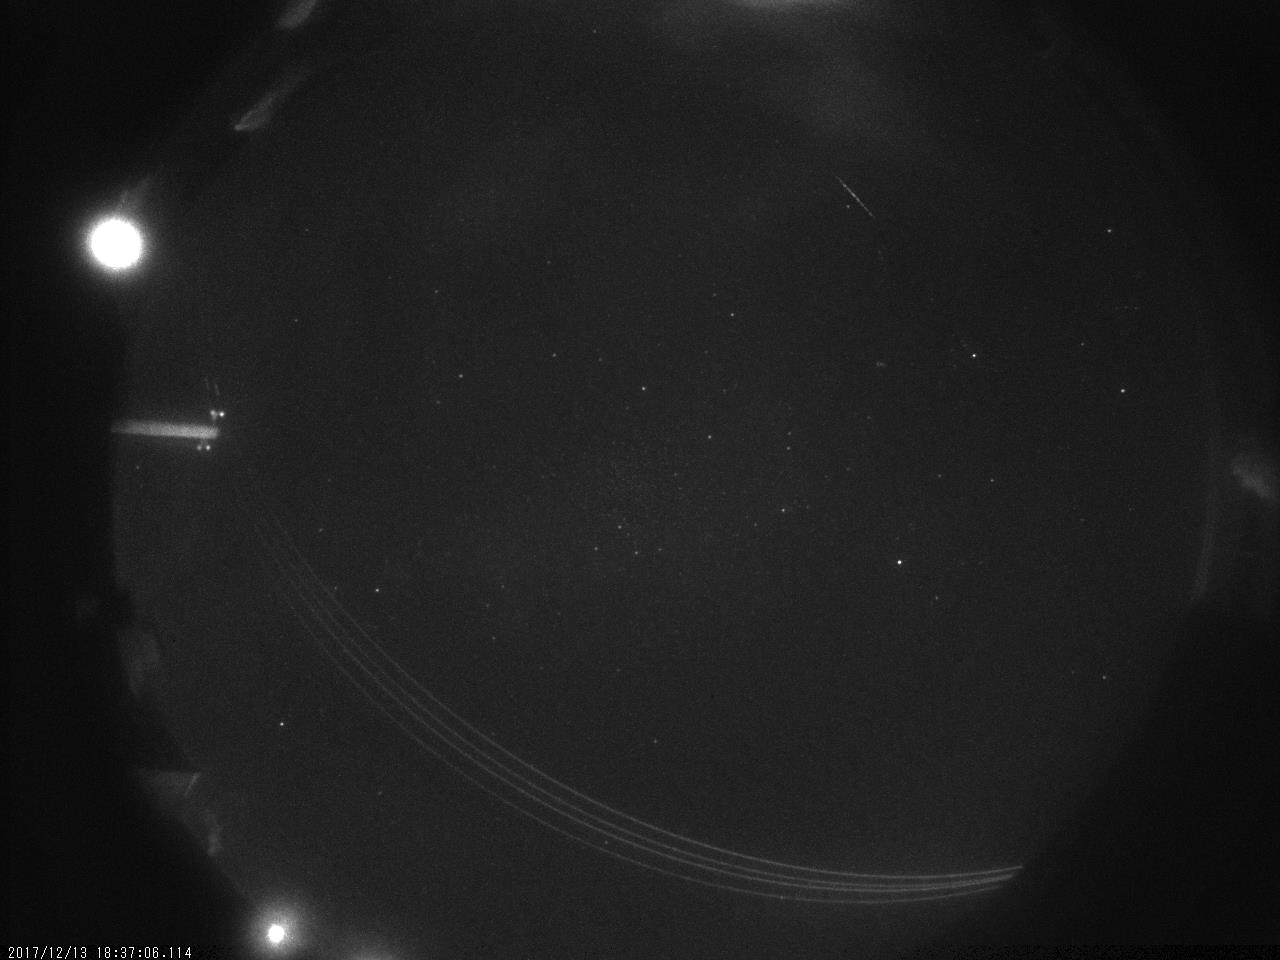meteor: (829, 169, 889, 222)
